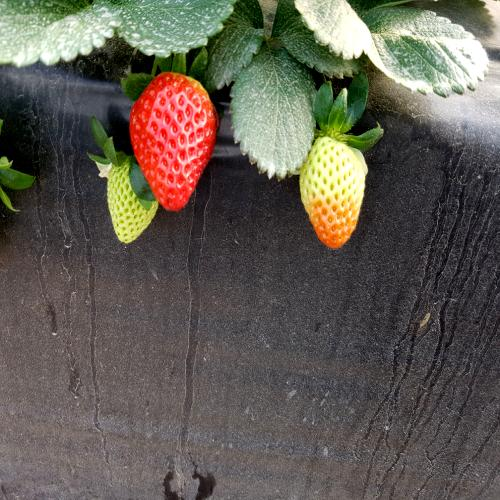partially-ripe: (296, 133, 375, 259)
ripe: (128, 64, 222, 213)
